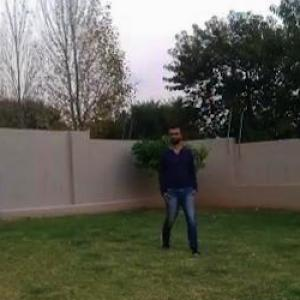follow: (162, 118, 197, 253)
